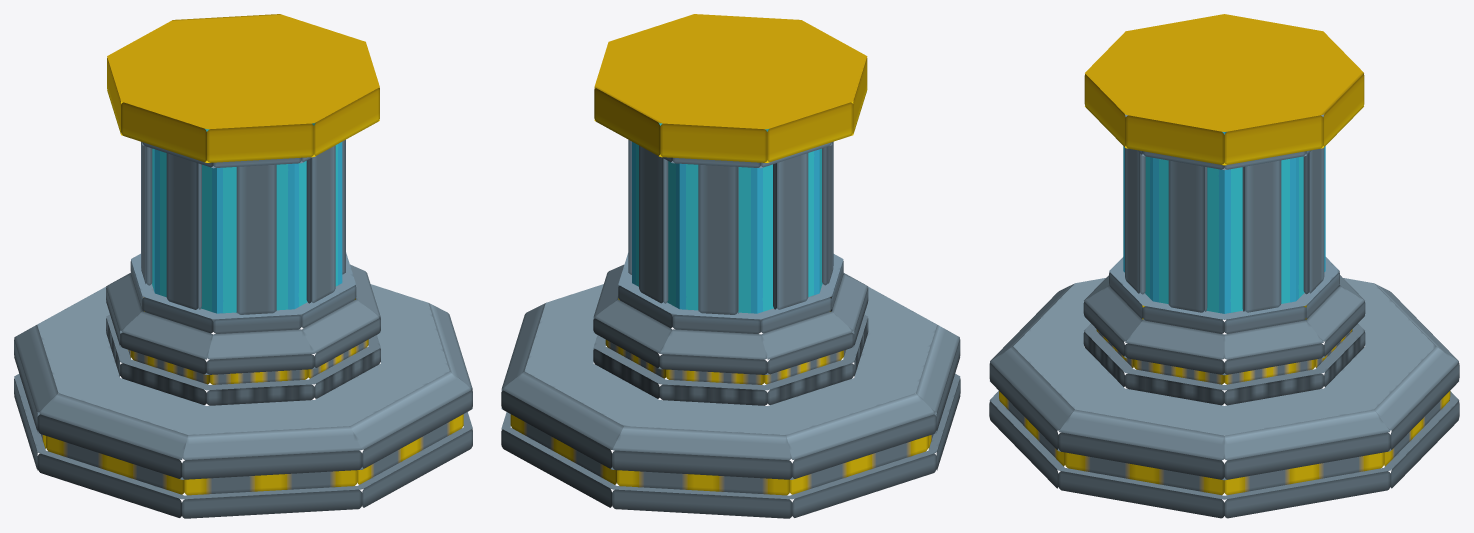
File: Reactor.fbx
3 renders of one model, left to right at view 1: azimuth 30°, elevation 25°; view 2: azimuth 150°, elevation 25°; view 3: azimuth 270°, elevation 25°, orthographic.
Parts seen in each view (by area): view 1: Cylinder, Cylinder.002; view 2: Cylinder, Cylinder.002; view 3: Cylinder, Cylinder.002.
Part boxes in pixels (box(x1,y1,x2,y2)): Cylinder: box(14, 14, 472, 518); Cylinder.002: box(152, 122, 342, 313); Cylinder: box(501, 14, 960, 518); Cylinder.002: box(632, 122, 822, 313); Cylinder: box(989, 14, 1459, 518); Cylinder.002: box(1123, 131, 1325, 313).
Bounding box in the file's own units: 469 × 381 × 469.
Materials: 2 (2 with a texture image).
